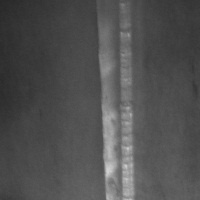scratches: (92, 1, 138, 200)
